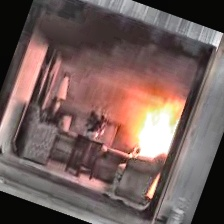fire: (123, 89, 194, 168)
smoke: (17, 0, 217, 118)
